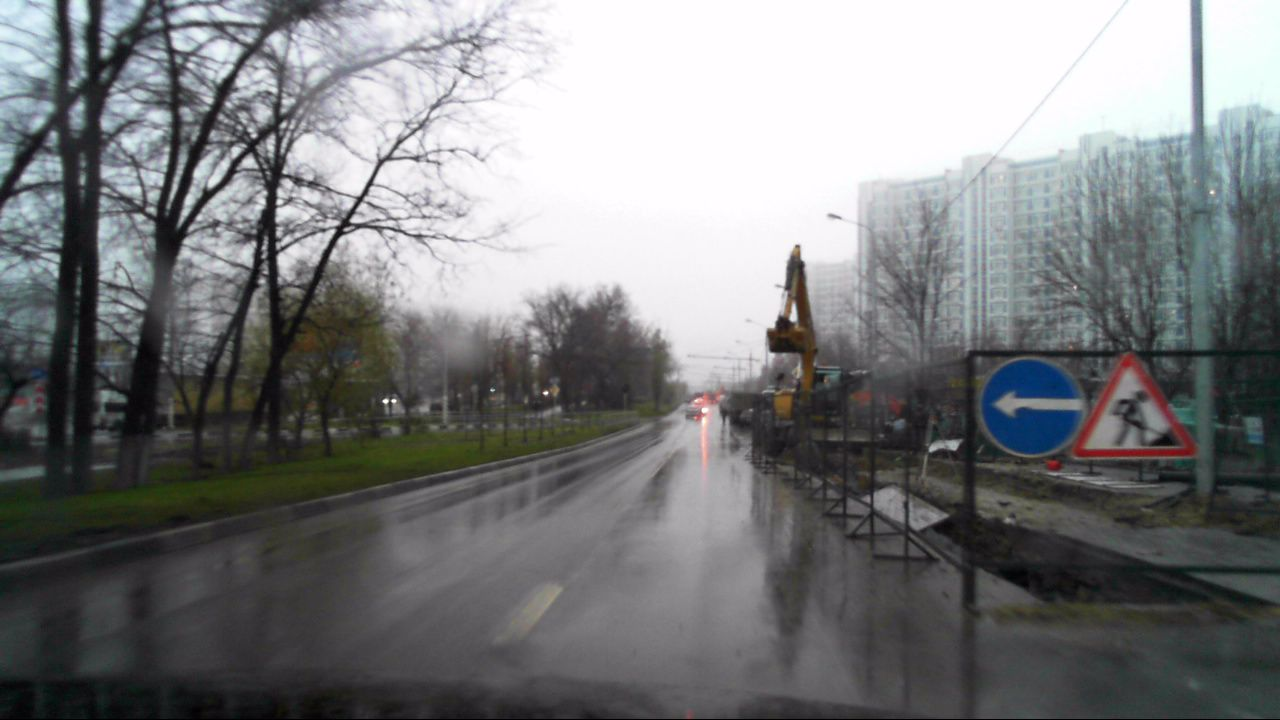Turn Left: (978, 357, 1085, 457)
